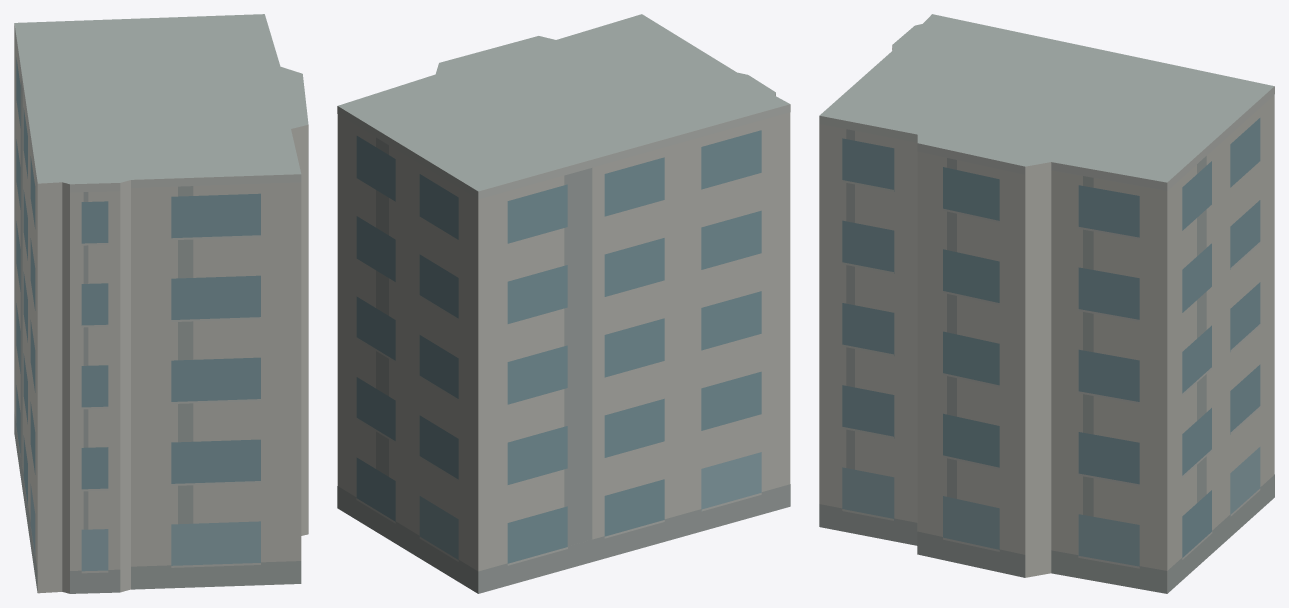
The model's file is survey-upis-32728727.glb.
The picture shows the model from 3 angles, left to right: view 1: azimuth 30°, elevation 25°; view 2: azimuth 150°, elevation 25°; view 3: azimuth 270°, elevation 25°; orthographic projection. The views are drawn at different scales.
Parts seen in each view (by area): view 1: survey-upis-32728727.tmp; view 2: survey-upis-32728727.tmp; view 3: survey-upis-32728727.tmp.
Part boxes in pixels (x1,y1,x2,y2): survey-upis-32728727.tmp: [14, 14, 308, 593]; survey-upis-32728727.tmp: [337, 14, 790, 593]; survey-upis-32728727.tmp: [819, 14, 1274, 593].
Bounding box in the file's own units: 10.65 × 12.1 × 12.15.
